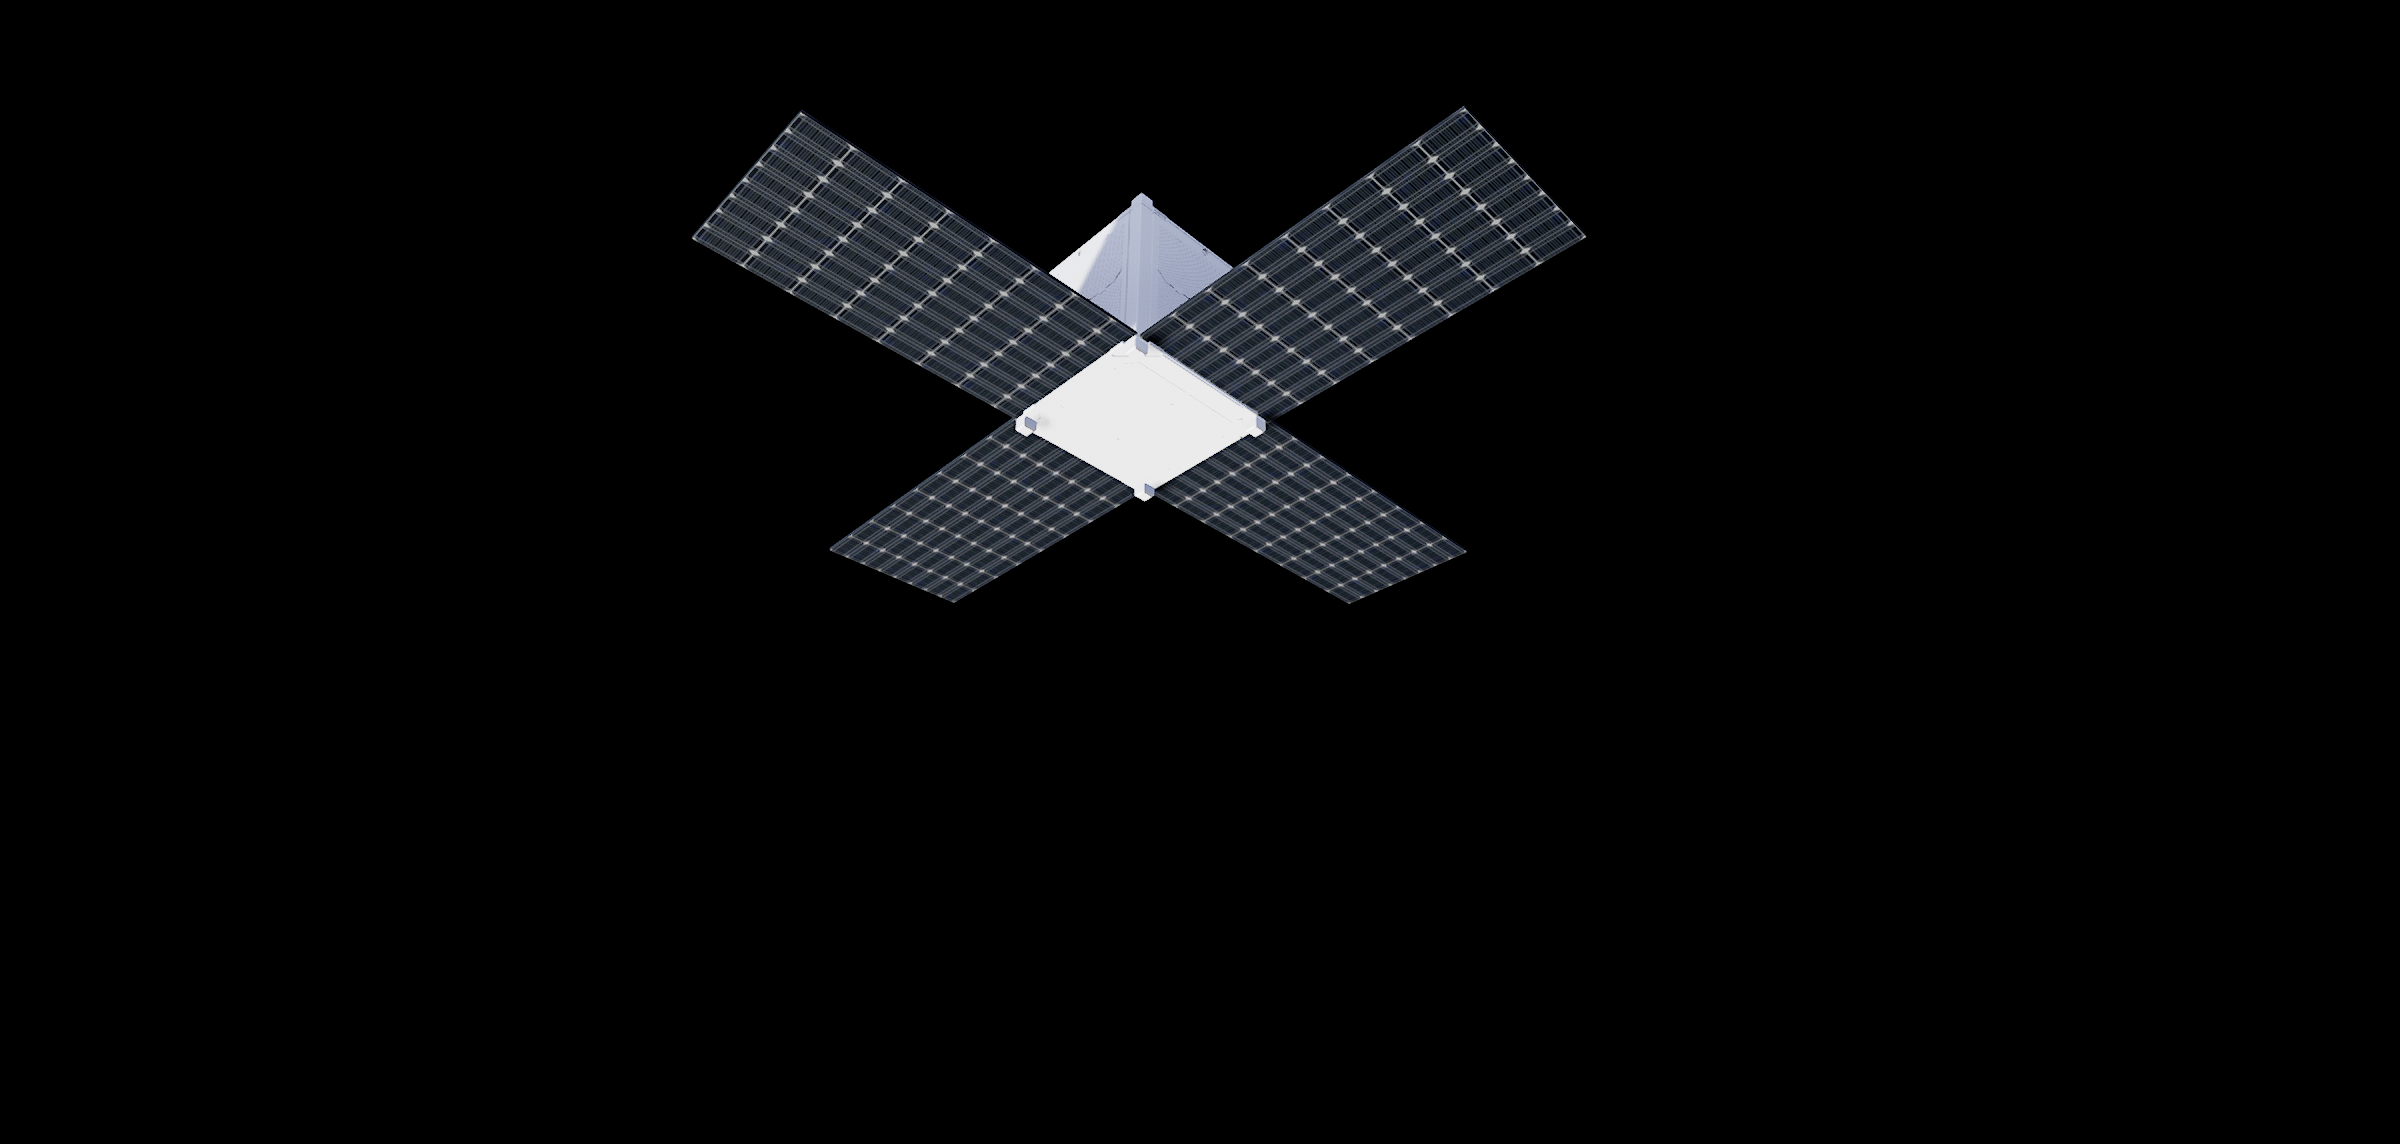satellite: (654, 77, 1619, 669)
